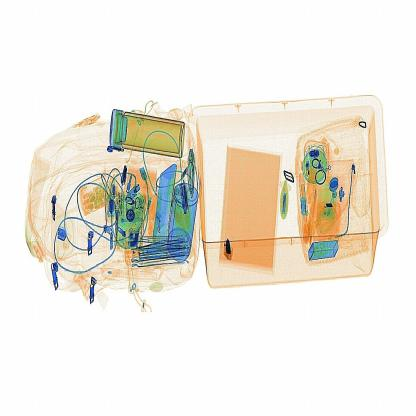wrench: (218, 232, 237, 272)
